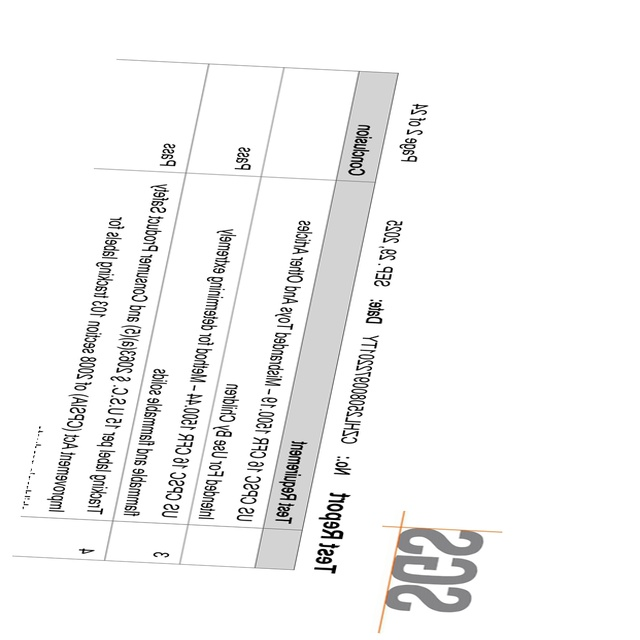sgs: (386, 526, 483, 613)
